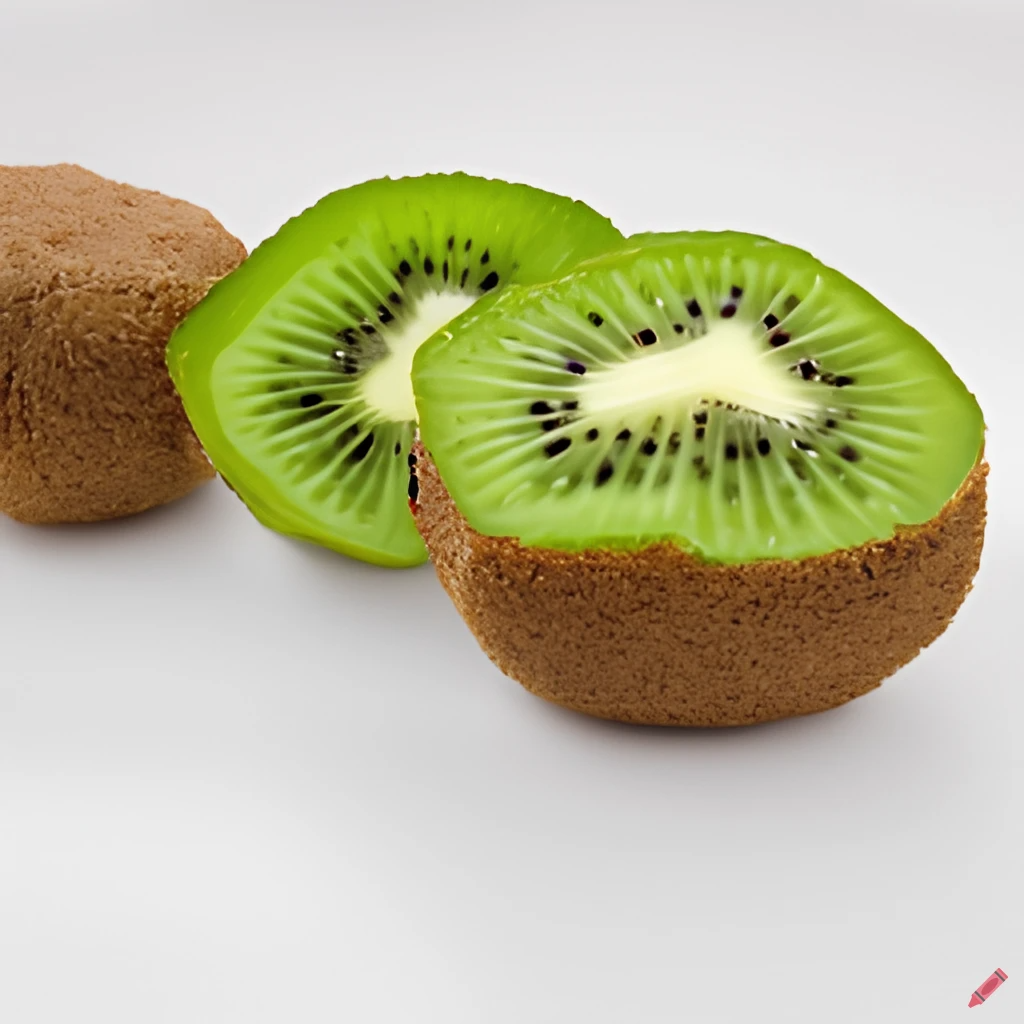Kiwi: (393, 191, 1020, 750)
